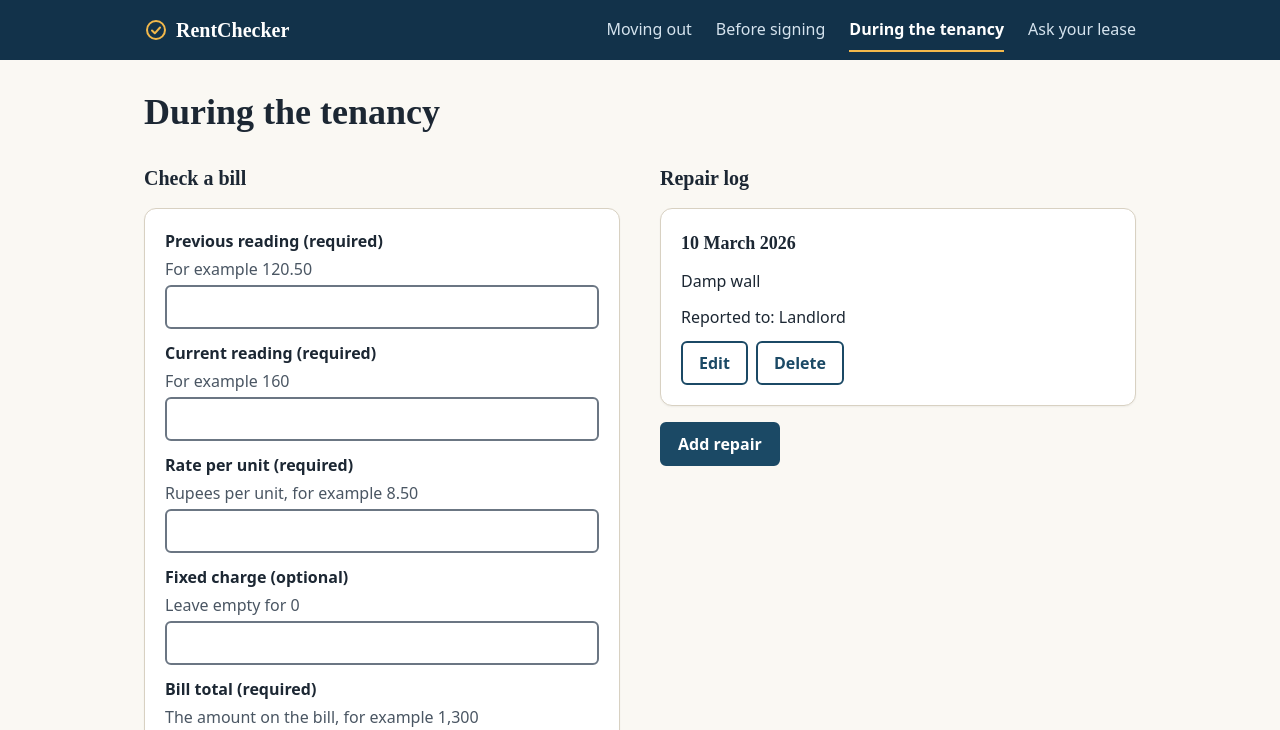
Repair log › F5-R5 an entry is edited in the same form, and Cancel keeps the old text
Click the button with aria-label "Edit repair Damp wall".
click(714, 363)  # box top-left (681, 341), bottom-right (748, 385)
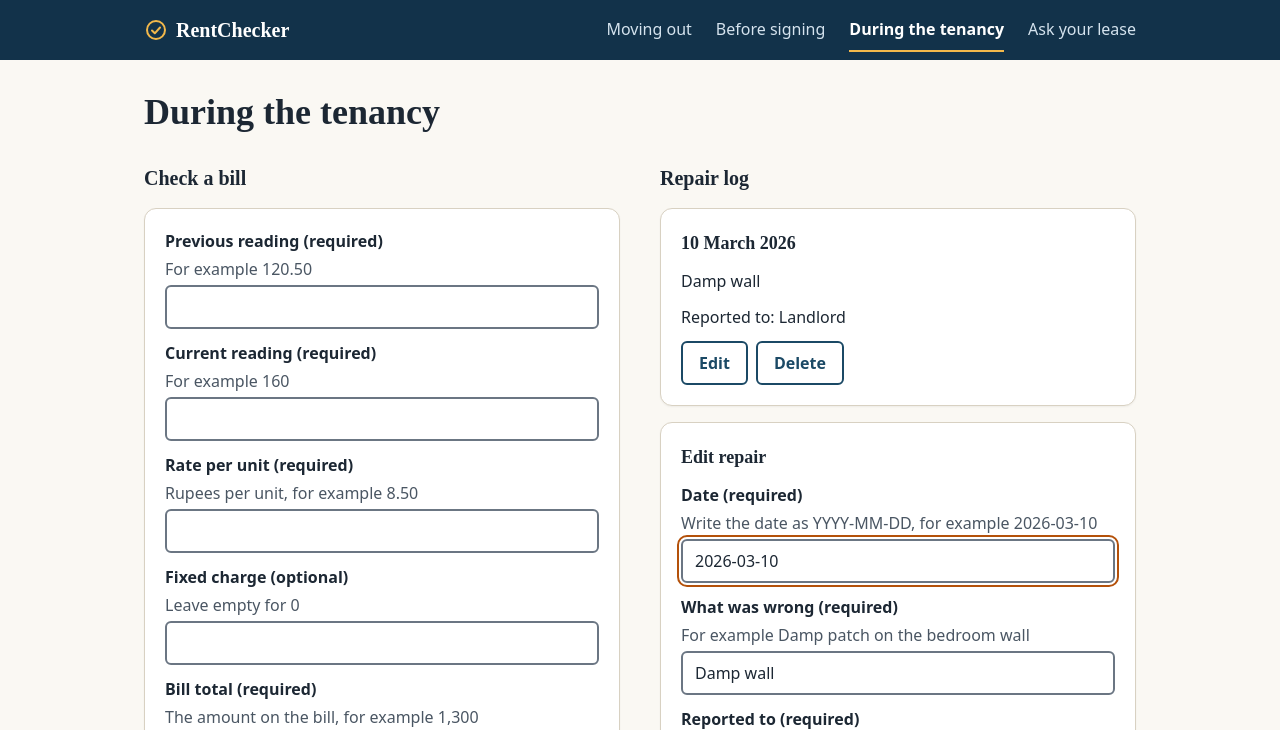
Expected: the field labelled "Date (required)" holds "2026-03-10", top-left (681, 539), bottom-right (1115, 583)
Replace the text in the field labelled "What was wrong (required)" with "Mould" at (898, 673), box top-left (681, 651), bottom-right (1115, 695)
(page scrolled)
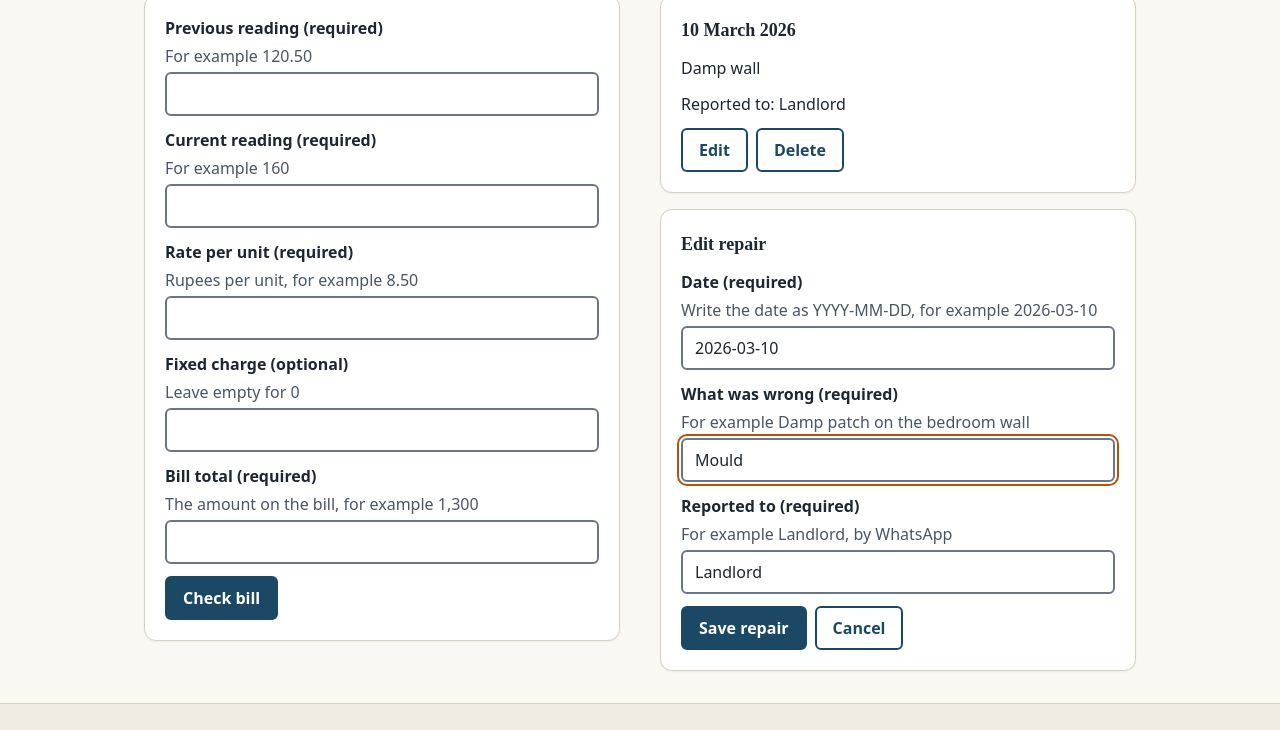
Click the button "Cancel".
click(859, 628)  # box top-left (814, 606), bottom-right (903, 650)
(page scrolled)
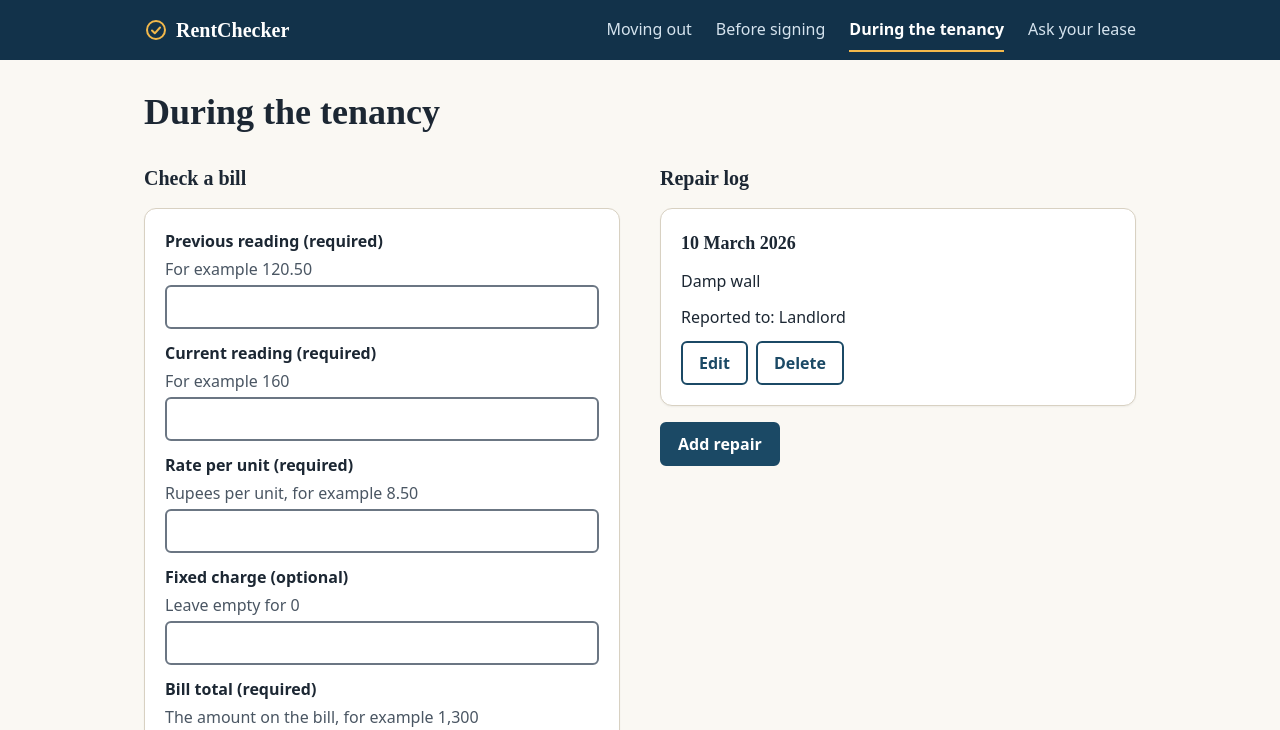
Expected: the text "Damp wall" is shown, top-left (681, 270), bottom-right (760, 292)
Click the button with aria-label "Edit repair Damp wall".
click(714, 363)  # box top-left (681, 341), bottom-right (748, 385)
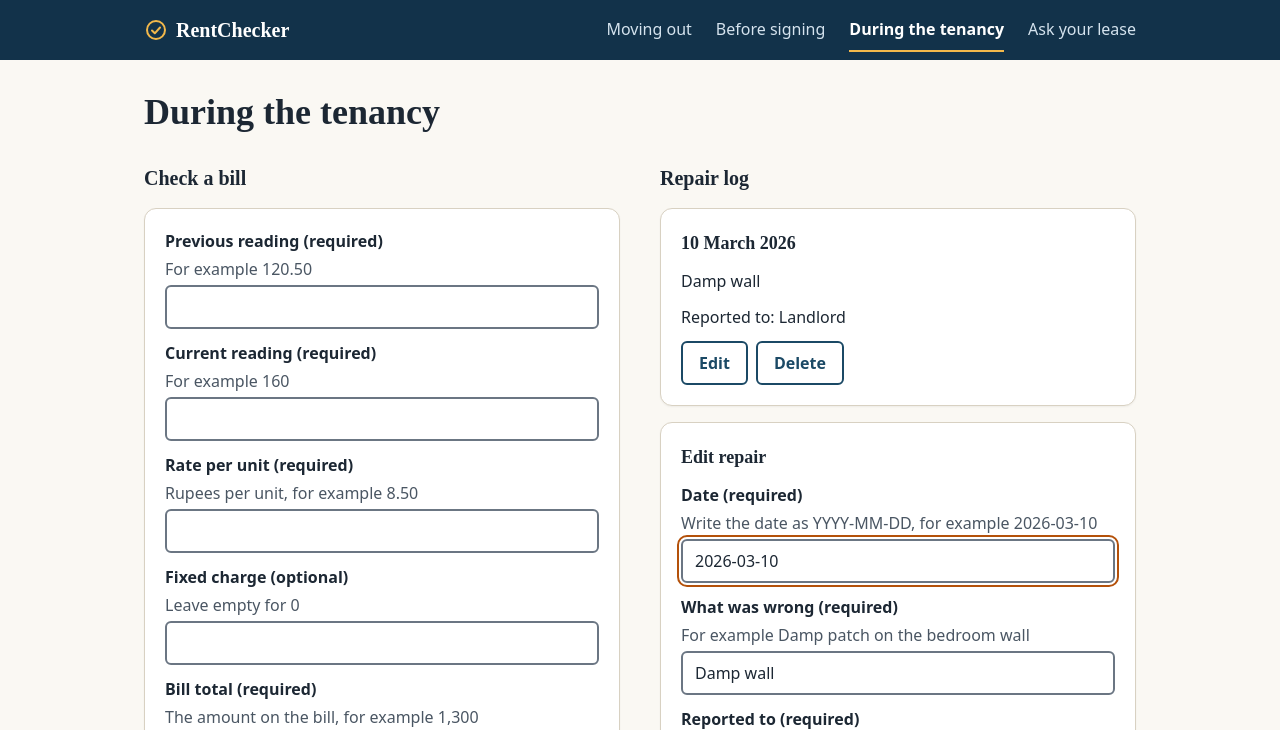
Replace the text in the field labelled "What was wrong (required)" with "Mould" at (898, 673), box top-left (681, 651), bottom-right (1115, 695)
(page scrolled)
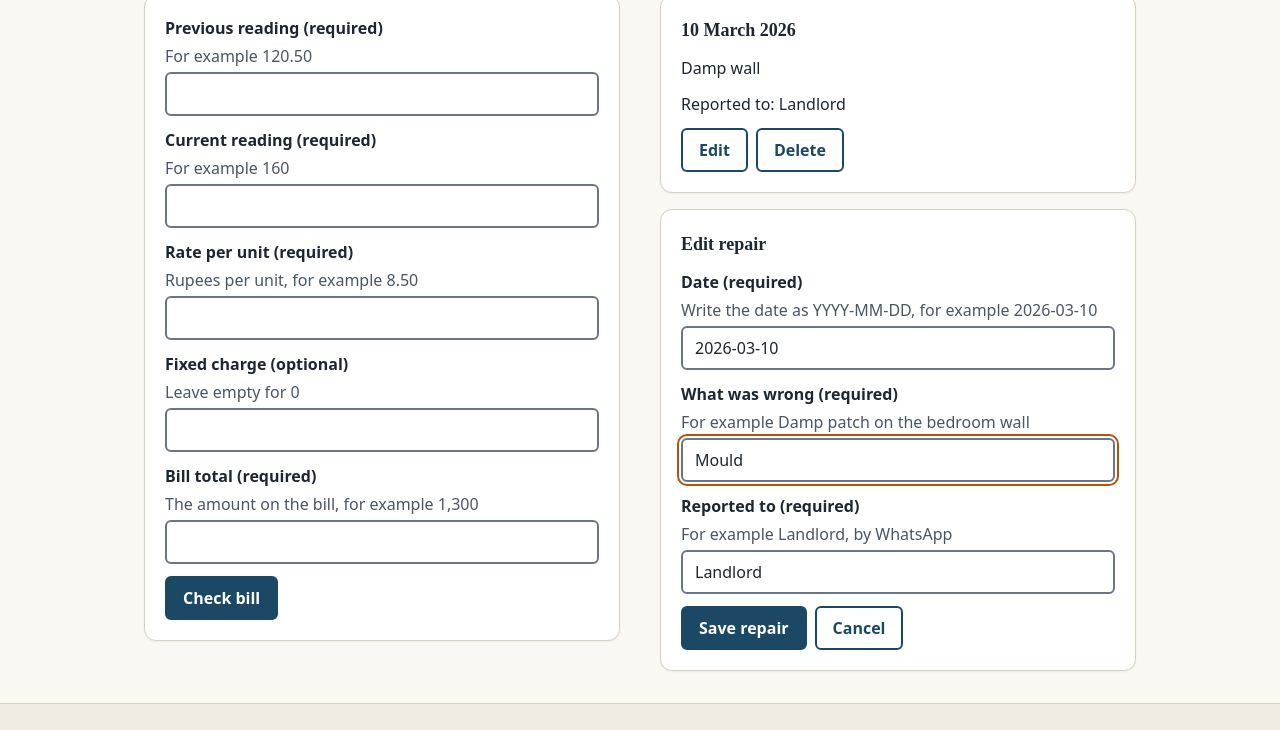
Click the button "Save repair".
click(744, 628)  # box top-left (681, 606), bottom-right (806, 650)
(page scrolled)
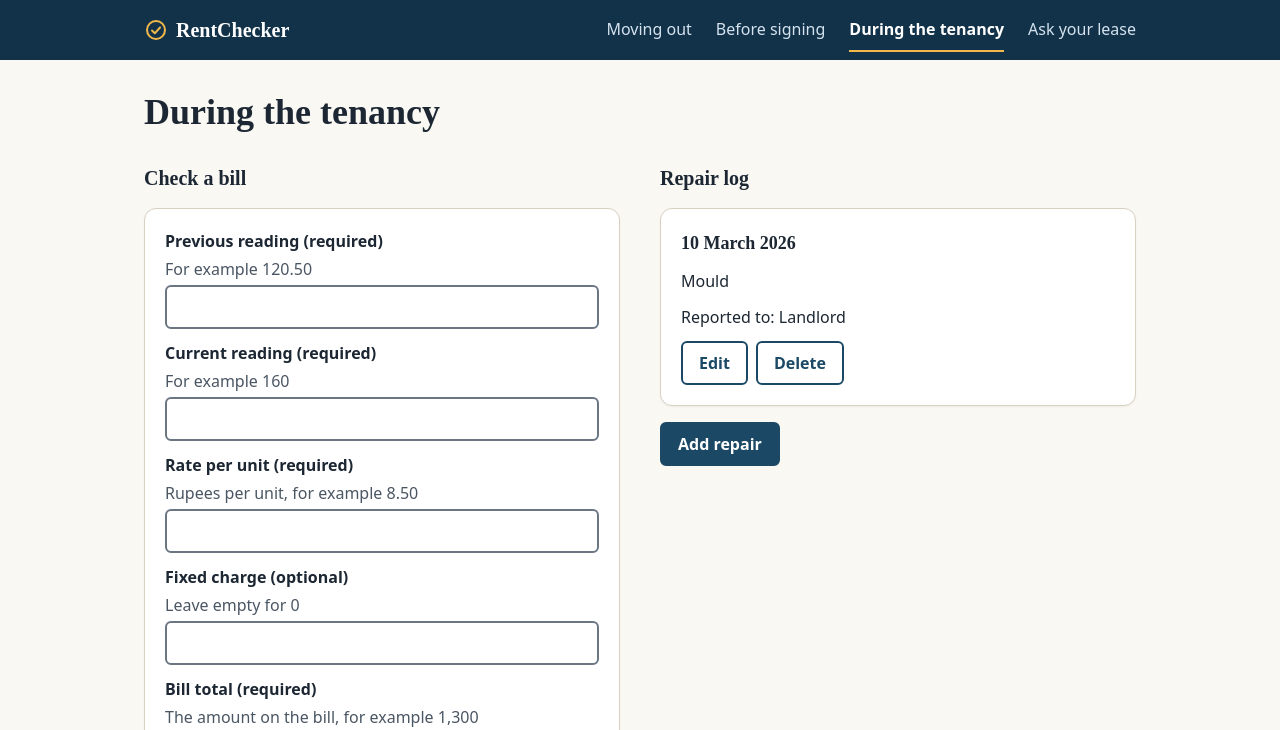
Expected: the text "Mould" is shown, top-left (681, 270), bottom-right (729, 292)
Expected: the text "Damp wall" is gone
